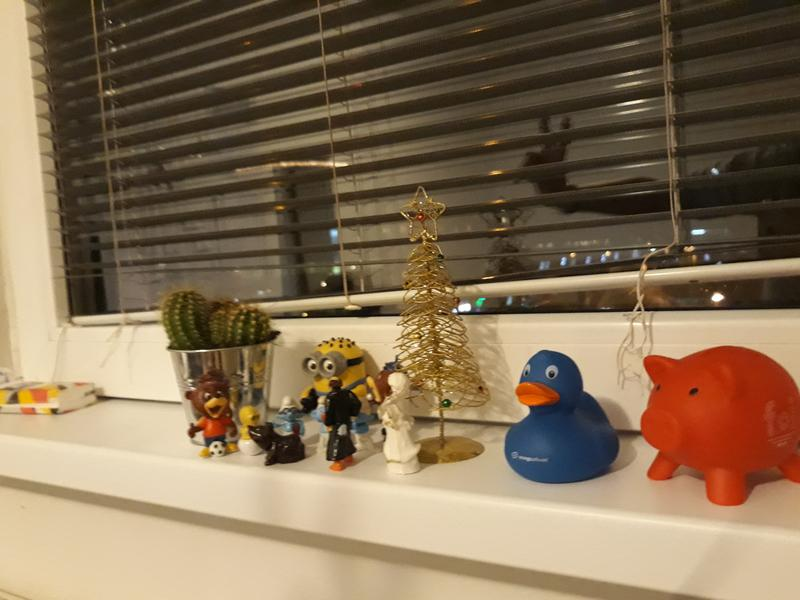foi_gujdica: (639, 334, 800, 505)
plava_patkica: (497, 339, 629, 482)
strumf: (277, 394, 310, 436), (354, 396, 374, 452), (312, 396, 328, 456)
